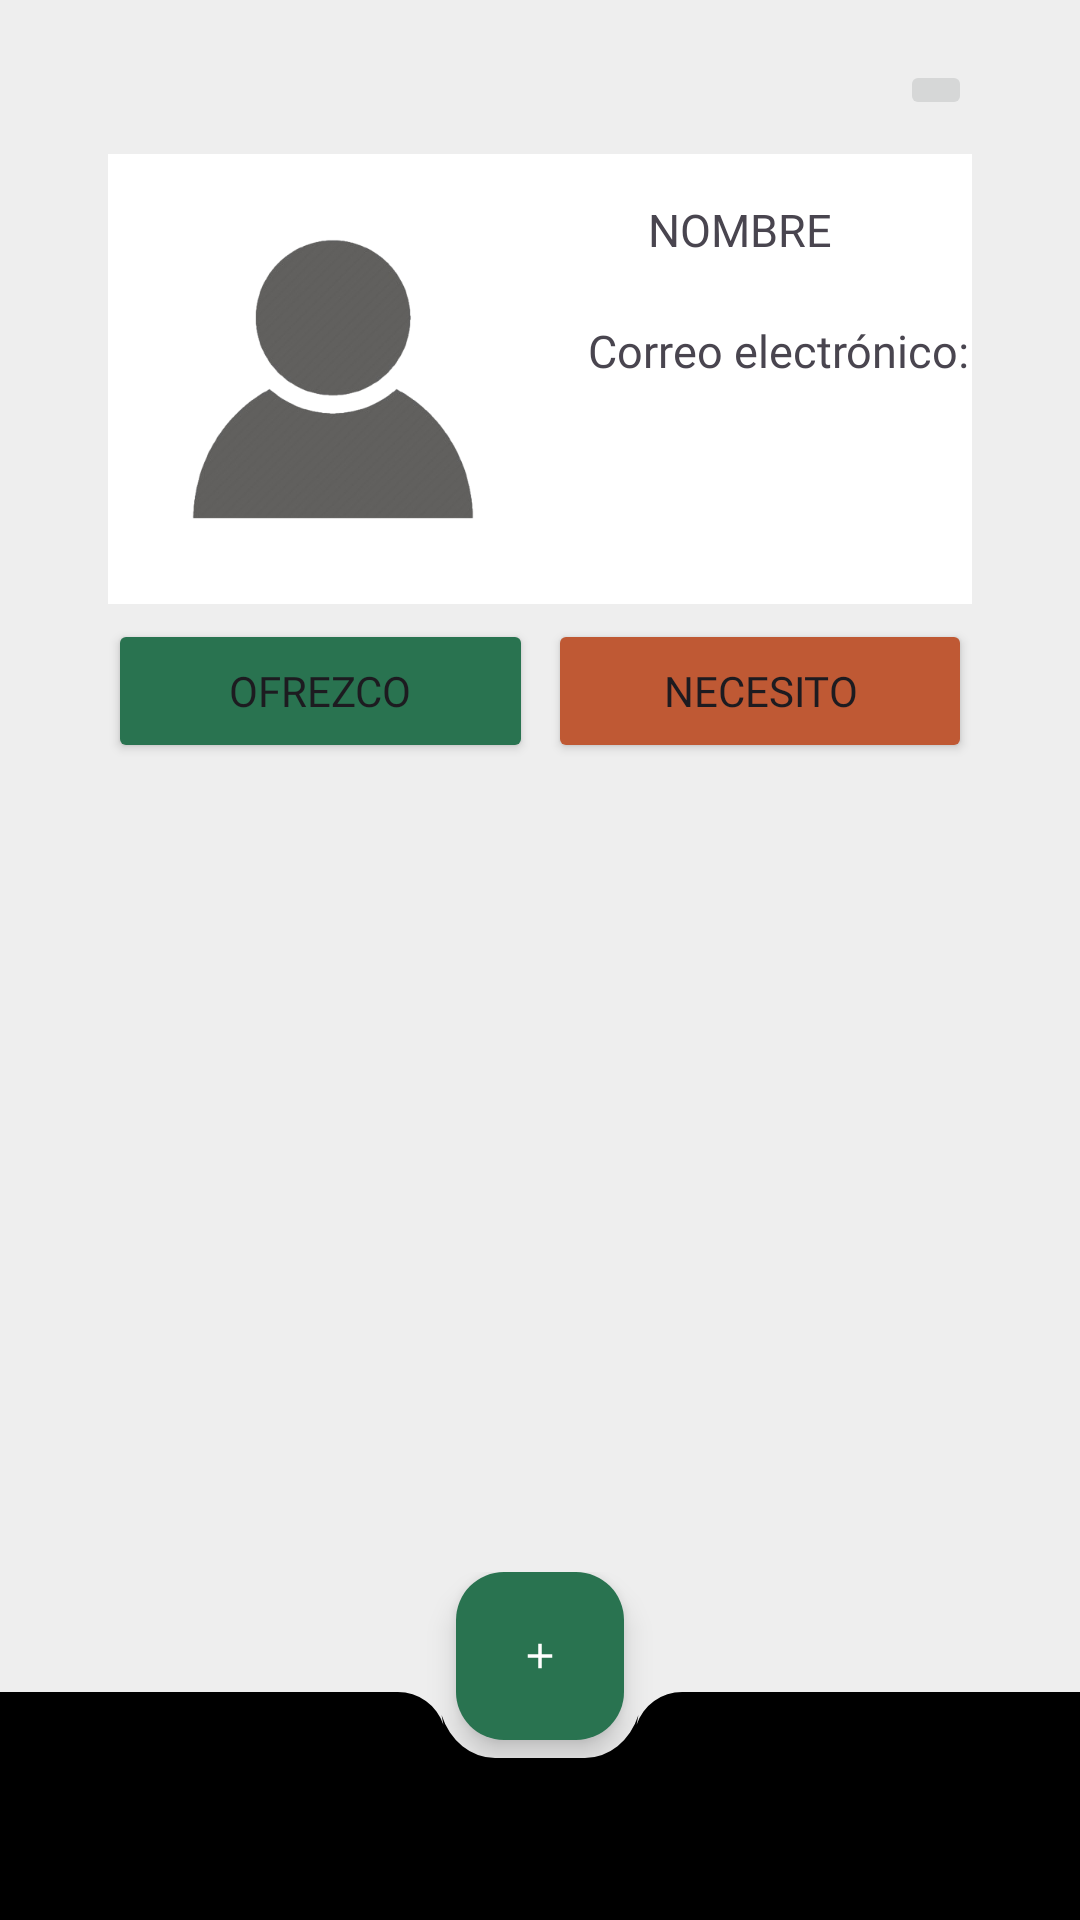

Icons on this 1080x1920 Android screen, each with the point to tap as point (x, y):
add: point (540, 1692)
usuariott: point (333, 379)
